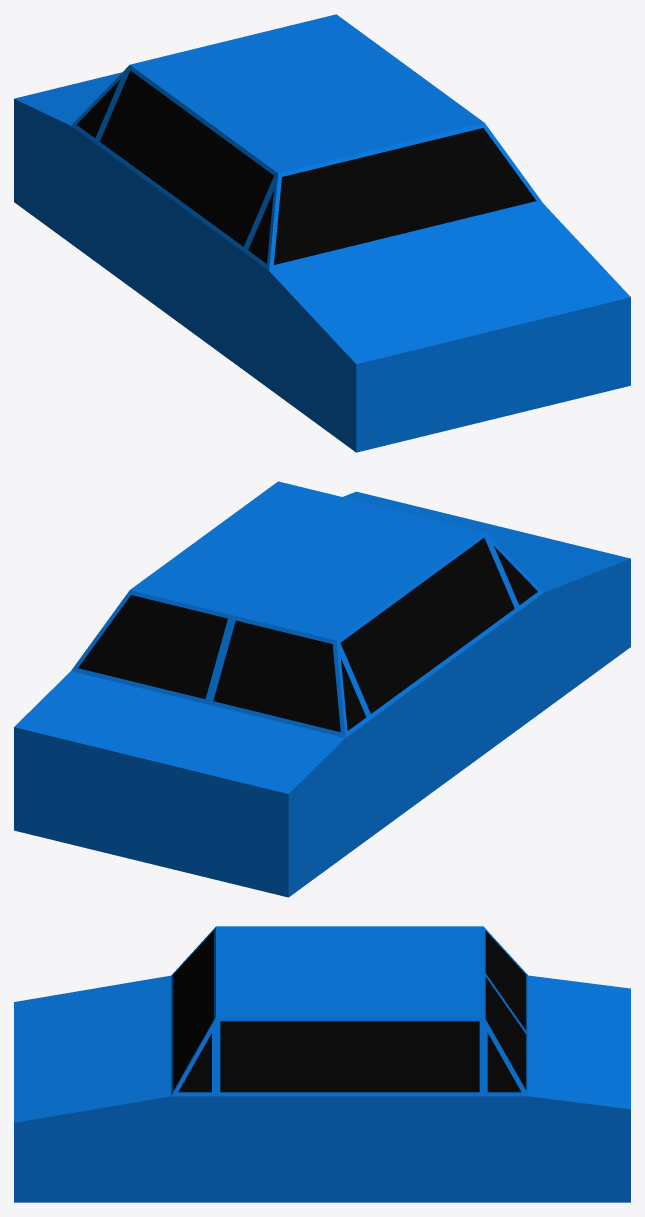
The model's file is BaseCar-01.fbx.
3 renders of one model, top to bottom at view 1: azimuth 30°, elevation 25°; view 2: azimuth 150°, elevation 25°; view 3: azimuth 270°, elevation 25°, orthographic. The views are drawn at different scales.
Visible parts, largest first — view 1: BaseCar-01; view 2: BaseCar-01; view 3: BaseCar-01.
Boxes of the visible parts, box(x1,y1,x2,y2) form: BaseCar-01: box(14, 14, 630, 452); BaseCar-01: box(14, 481, 630, 897); BaseCar-01: box(14, 926, 630, 1202).
Size of the model in its own units: 160 by 105 by 345.
